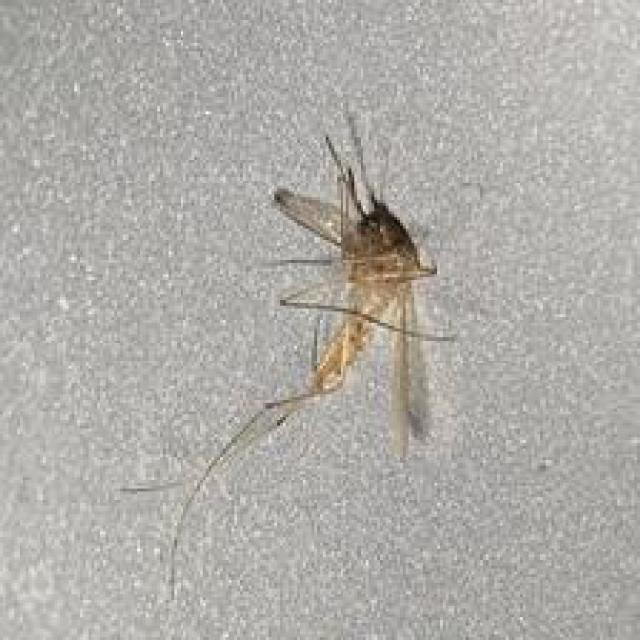Culex: (142, 110, 458, 601)
